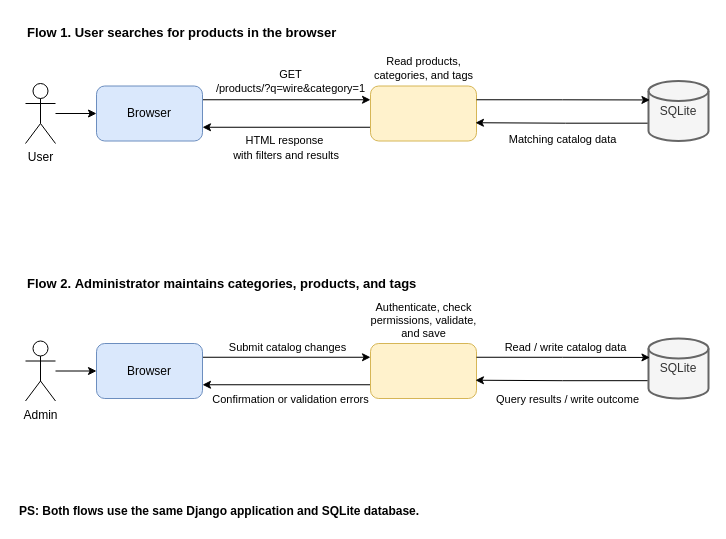
This 726x539 diagram has some shape labels left out. Each missing label, with the box of its shape:
Django Admin: (370, 342, 476, 398)
Django Catalog Search: (370, 85, 476, 141)
